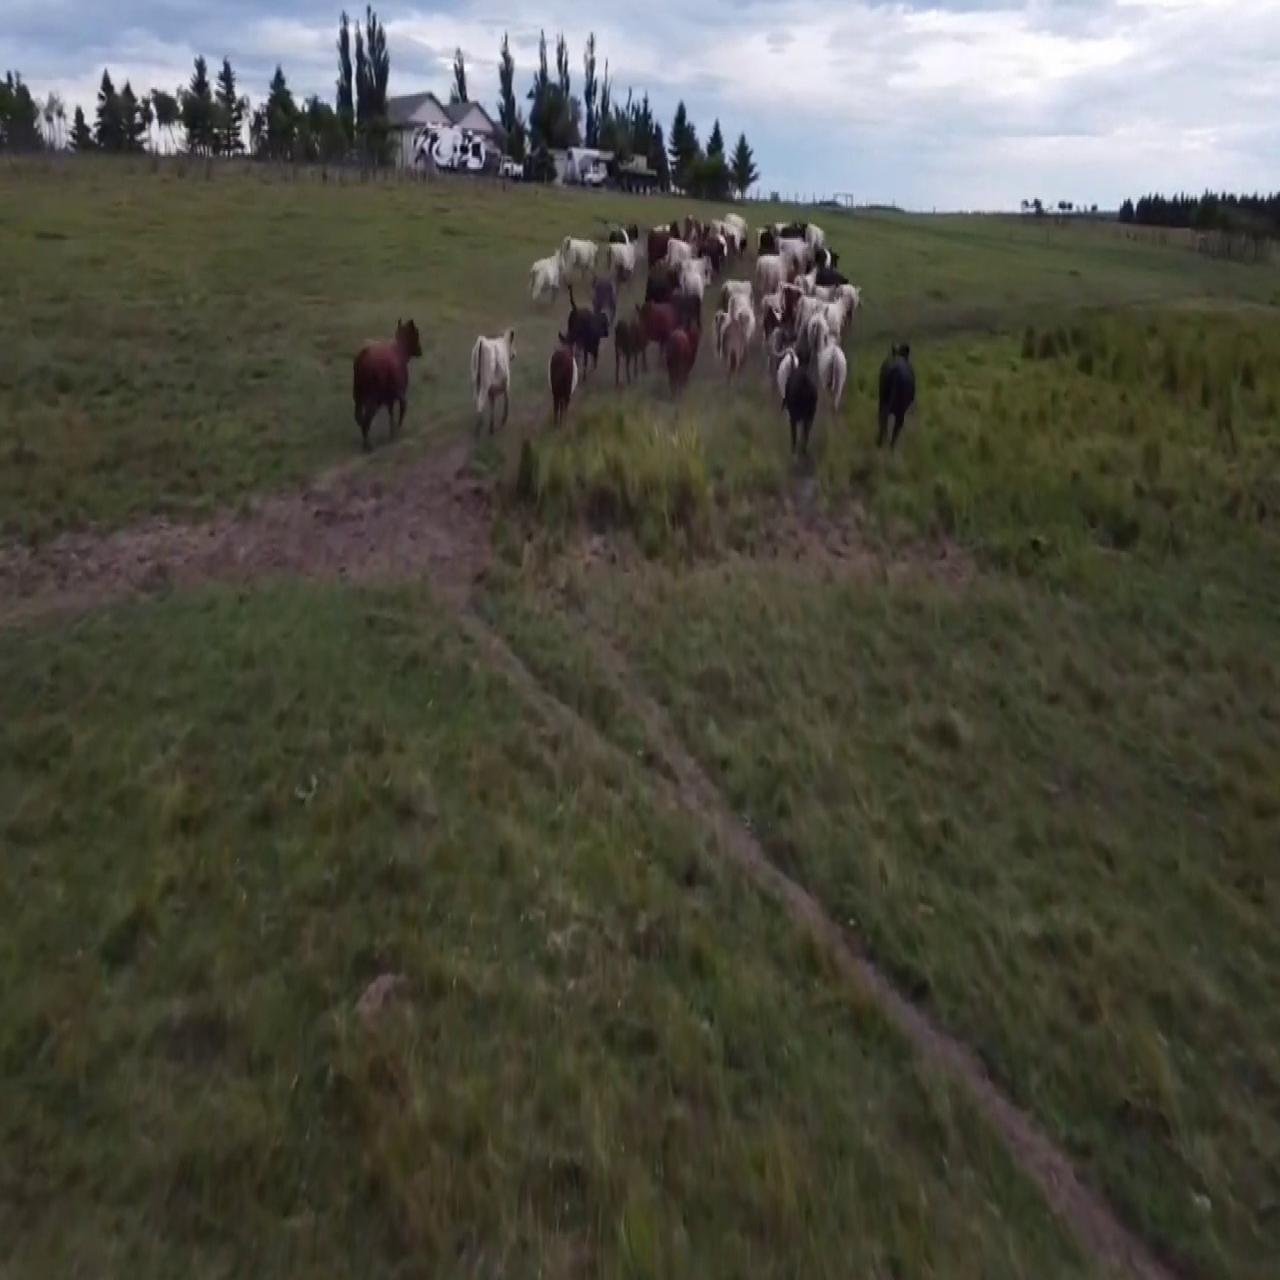cow: (343, 325, 415, 452), (772, 361, 829, 477), (872, 333, 921, 461), (470, 320, 519, 438), (712, 274, 755, 387), (536, 334, 584, 420), (515, 236, 565, 302)
